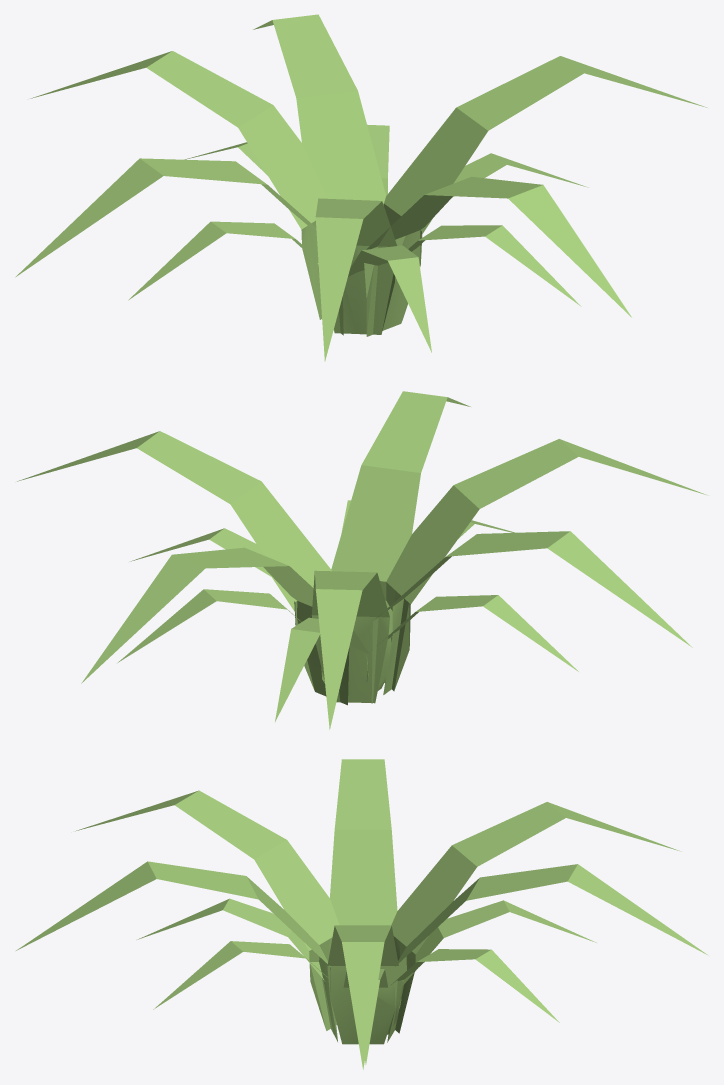
Rendered from Bush_Fern_02.fbx.
The picture shows the model from 3 angles, top to bottom: view 1: azimuth 30°, elevation 25°; view 2: azimuth 150°, elevation 25°; view 3: azimuth 270°, elevation 25°; orthographic projection. The views are drawn at different scales.
Parts seen in each view (by area): view 1: Model; view 2: Model; view 3: Model.
Part boxes in pixels (<box>): Model: <box>15,14,707,361</box>; Model: <box>17,391,707,729</box>; Model: <box>16,759,708,1069</box>.
Bounding box in the file's own units: 350 × 97.75 × 340.
